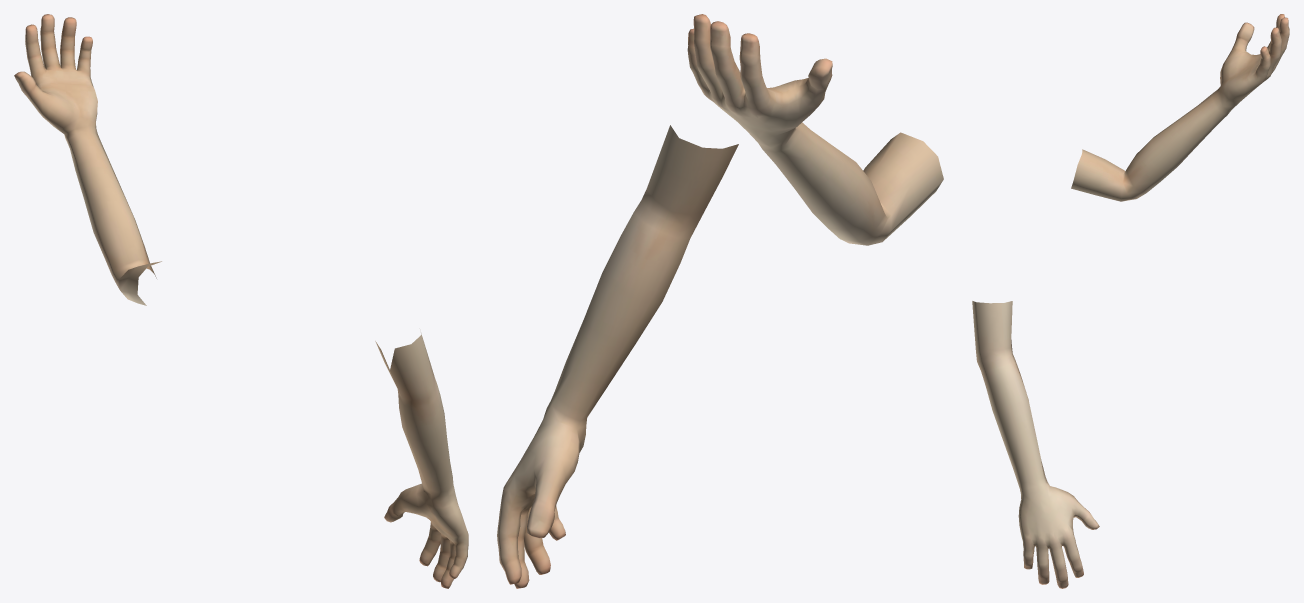
File: FrontRightHandAnchor.glb
3 views of the same model, side by side, from view 1: azimuth 30°, elevation 25°; view 2: azimuth 150°, elevation 25°; view 3: azimuth 270°, elevation 25° (orthographic). The views are drawn at different scales.
Visible parts, largest first — view 1: Model; view 2: Model; view 3: Model.
Part boxes in pixels (x1,y1,x2,y2): Model: (14, 14, 468, 588); Model: (497, 14, 943, 588); Model: (972, 14, 1289, 588).
Size of the model in its own units: 0.4011 by 0.6242 by 0.3906.
1 material, 1 textured.
